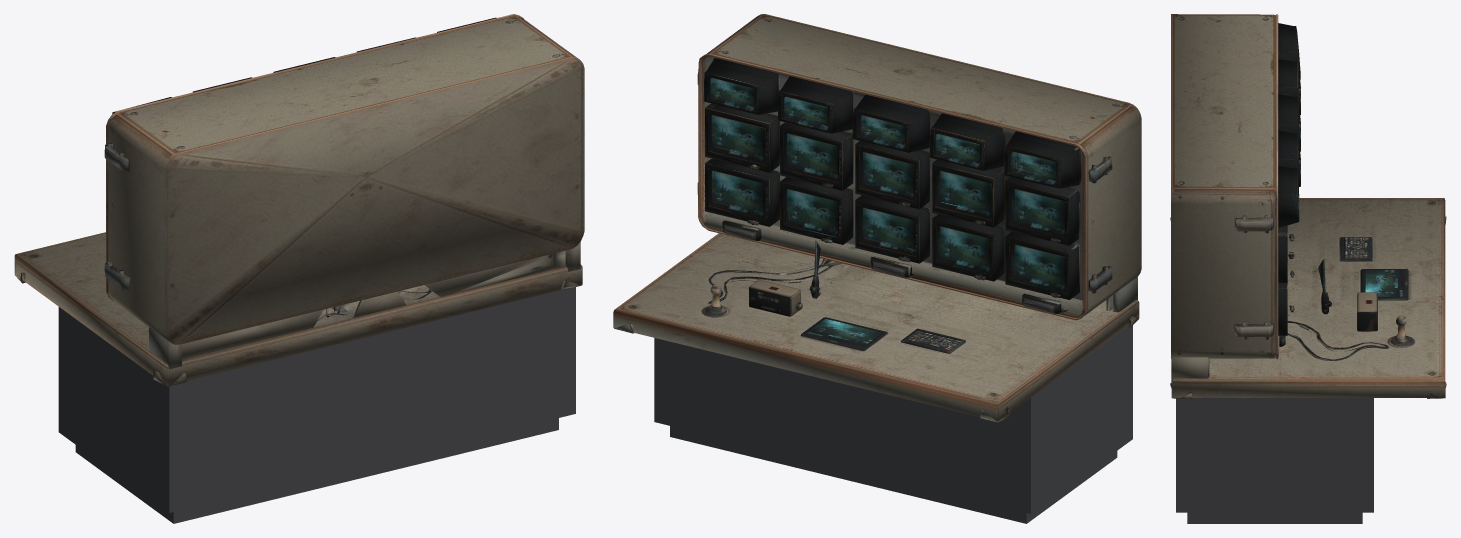
Rendered from office-cctv-console.glb.
3 renders of one model, left to right at view 1: azimuth 30°, elevation 25°; view 2: azimuth 150°, elevation 25°; view 3: azimuth 270°, elevation 25°, orthographic. The views are drawn at different scales.
Visible parts, largest first — view 1: cctv-console, plinth; view 2: cctv-console, plinth; view 3: cctv-console, plinth.
Boxes of the visible parts, x1=… form: cctv-console: x1=14, y1=14, x2=584, y2=386; plinth: x1=58, y1=287, x2=575, y2=523; cctv-console: x1=613, y1=14, x2=1141, y2=422; plinth: x1=654, y1=326, x2=1132, y2=523; cctv-console: x1=1170, y1=14, x2=1446, y2=399; plinth: x1=1176, y1=398, x2=1373, y2=523.
Bounding box in the file's own units: 2 × 1.67 × 1.24.
2 materials, 1 textured.
